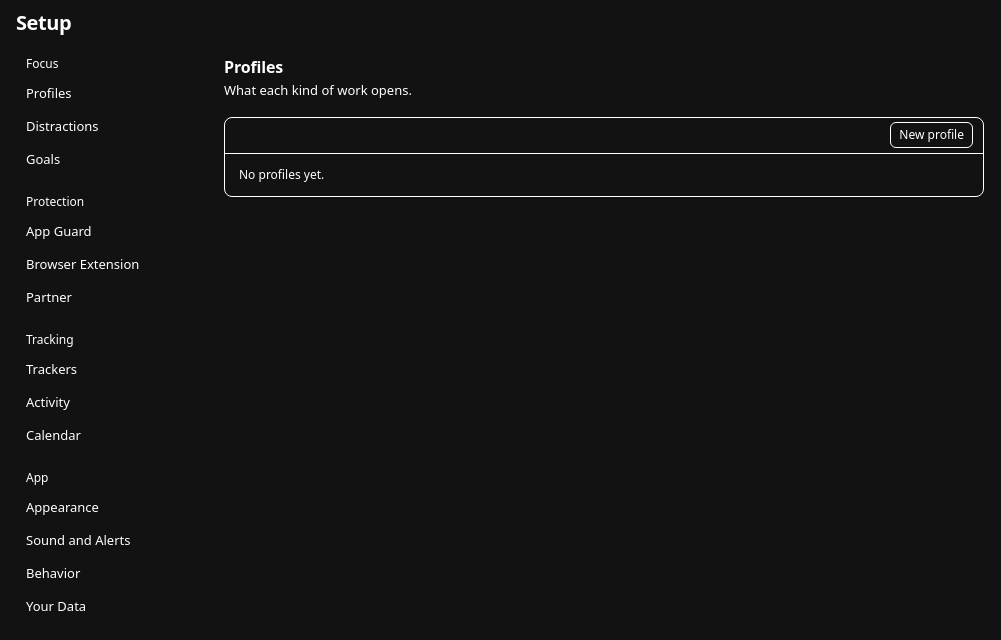
Test: Your Data's danger zone › leaves Delete account out while signed out
Click the tab "Your Data" at (108, 607), box [16,591,200,623]
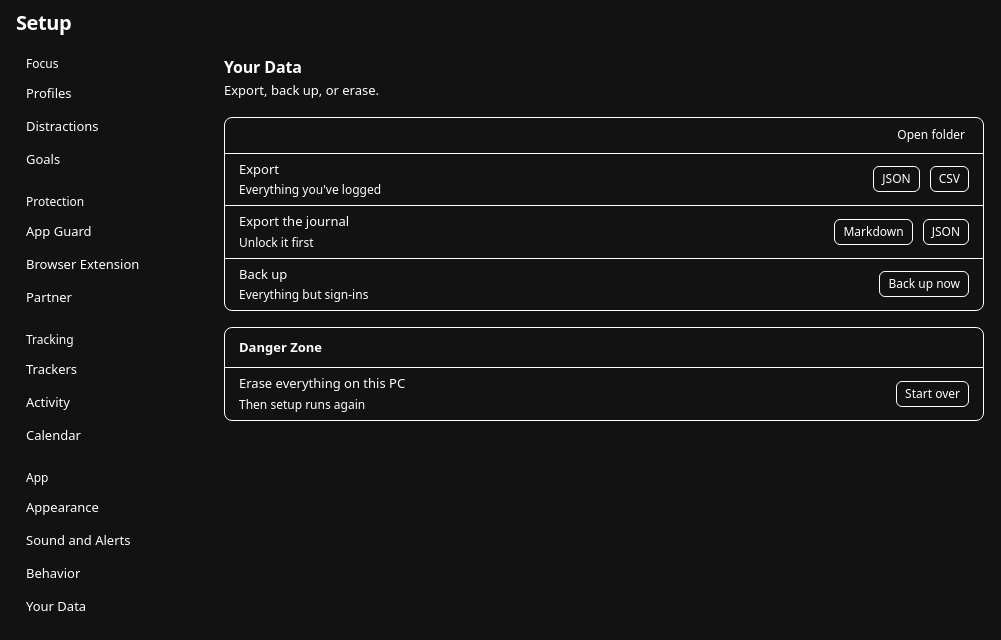
Expected: the button "Start over" is shown, [896,381,969,407]
